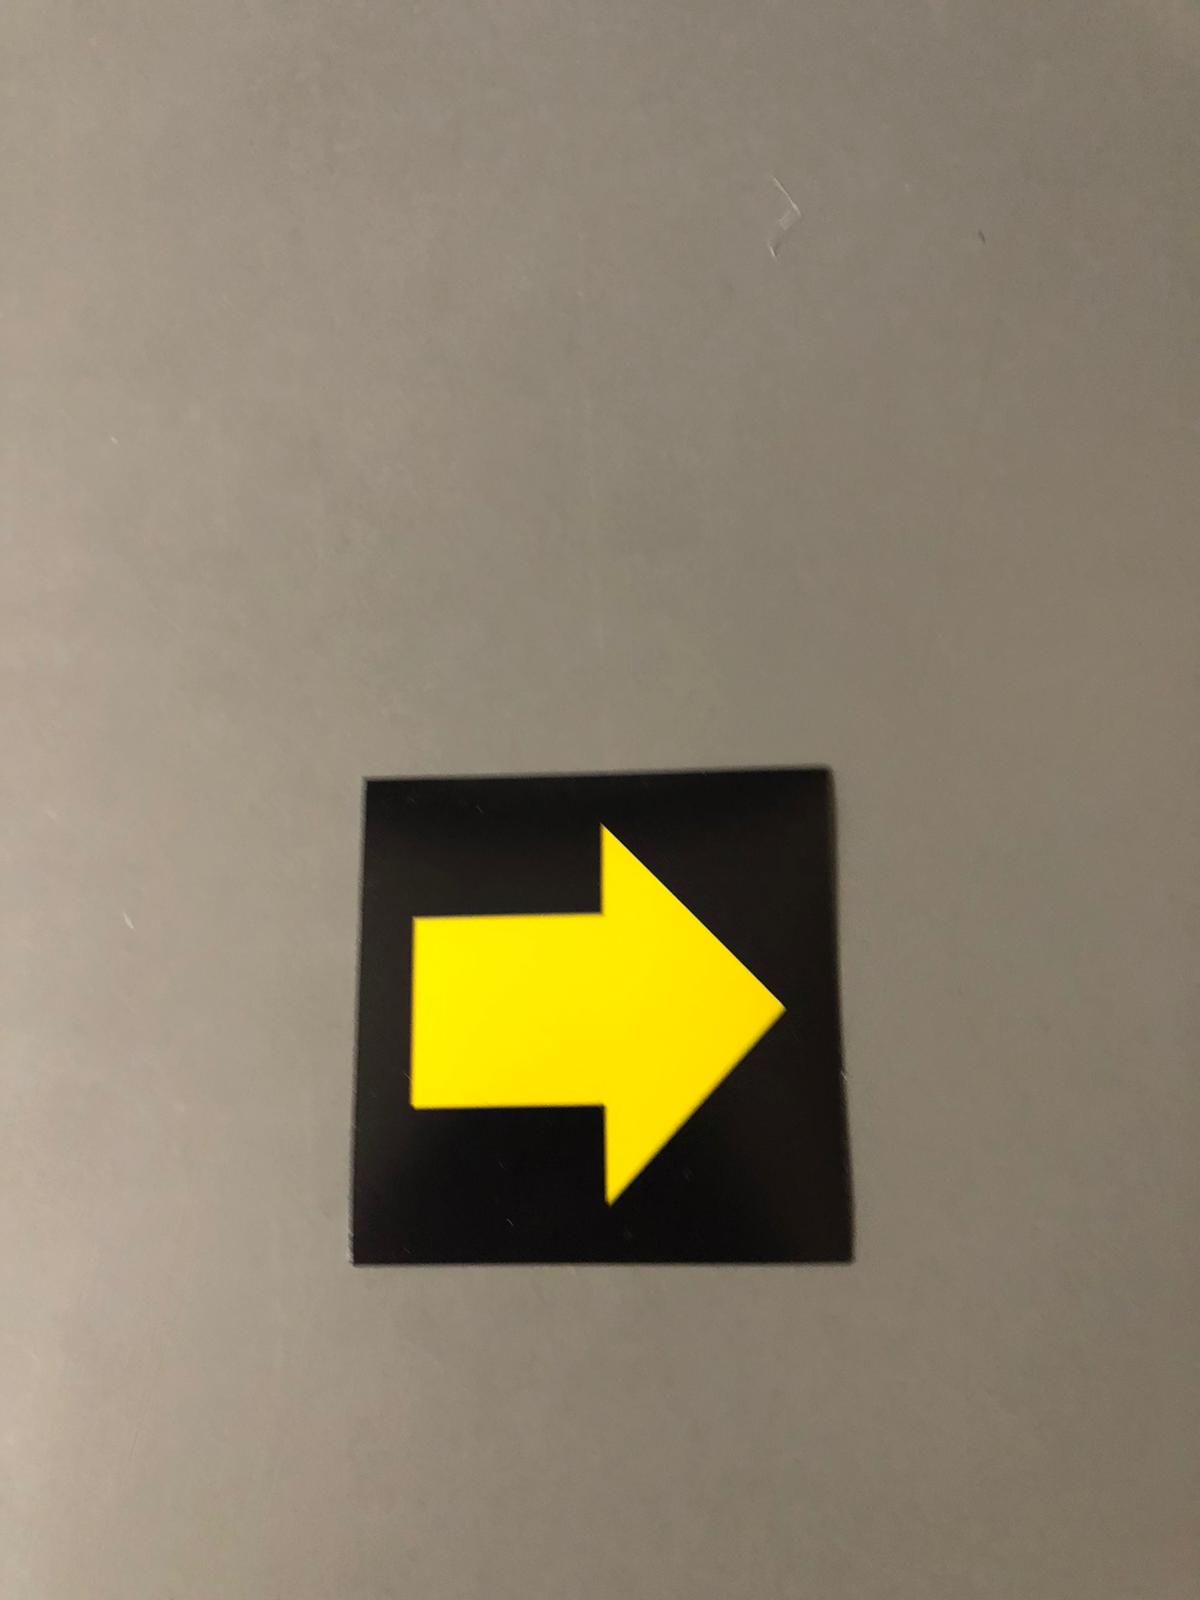Right Arrow: (366, 797, 811, 1270)
